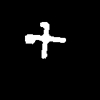single_crochet: (25, 22, 65, 57)
